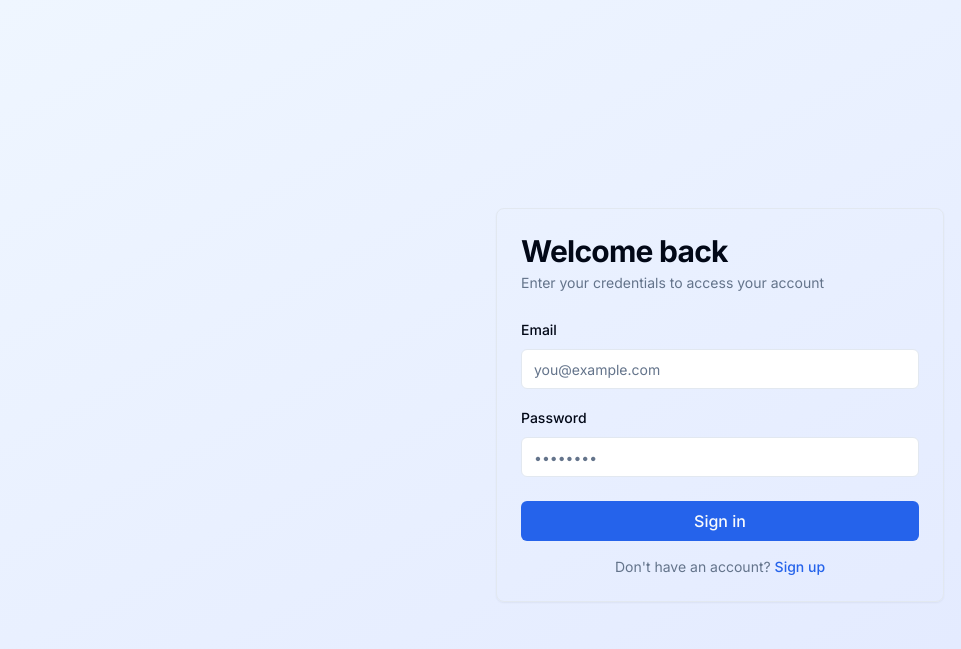
Authentication Integration Tests › Login Flow › should display error message on login failure
This screenshot has width=961, height=649.
Type "wrong@example.com" into the field labelled "Email" at (720, 369), box [521,349,919,389]
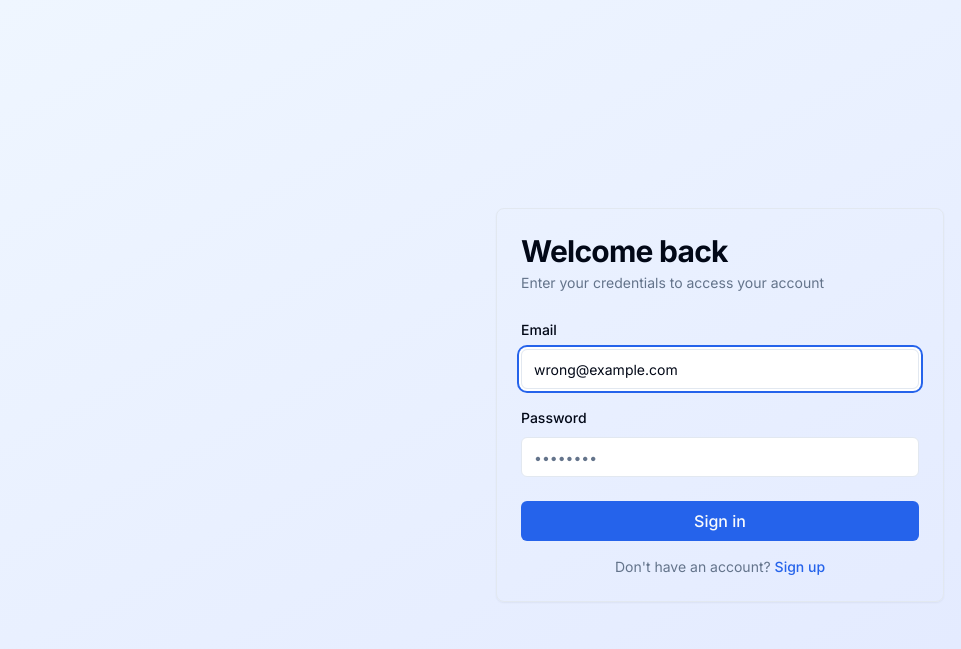
Type "wrongpassword" into the password field labelled "Password" at (720, 457), box [521,437,919,477]
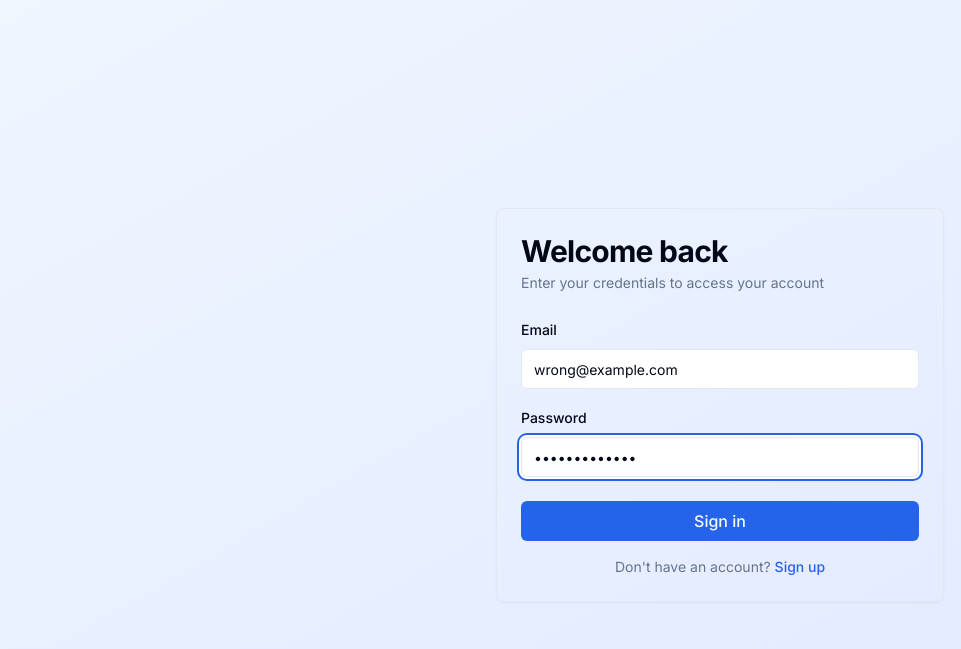
Click the button "Sign in" at (720, 521), box [521,501,919,541]
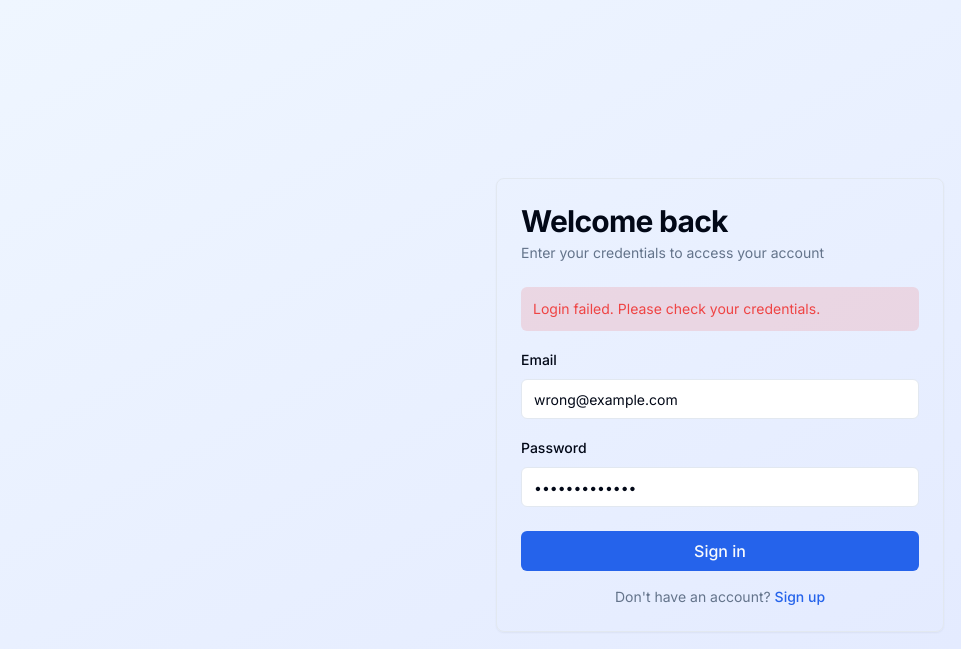
expect the text "Login failed. Please check your credentials." is shown: met, box [521,287,919,331]
